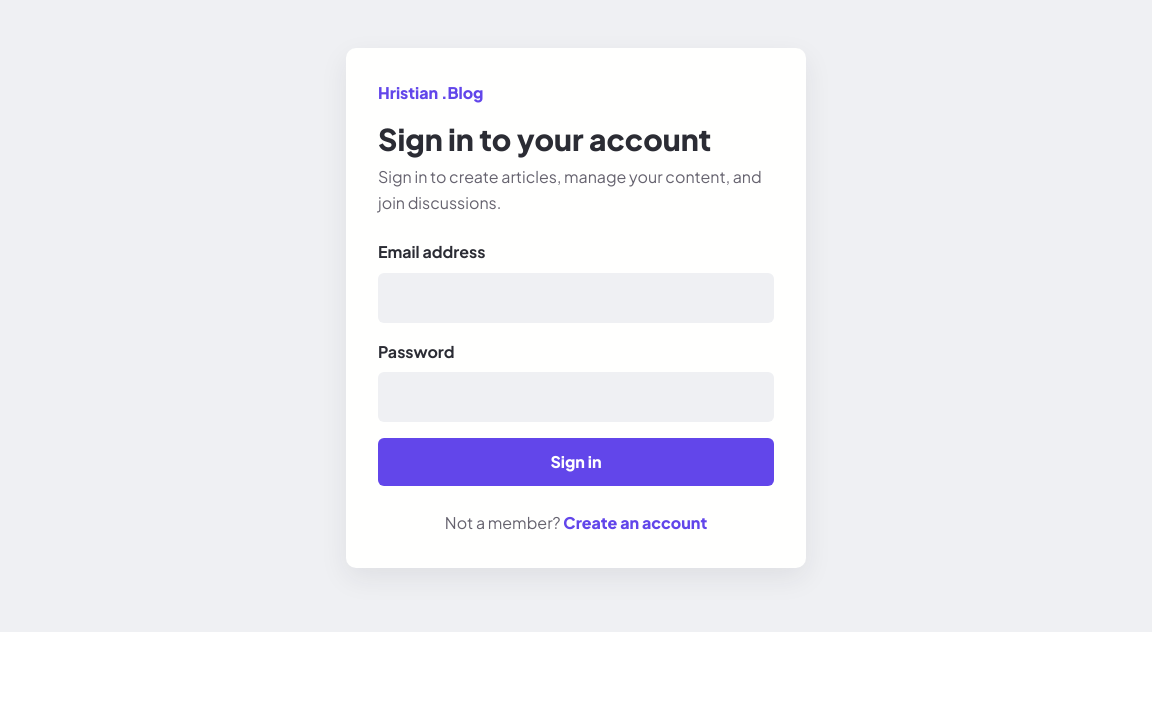
Test: Login page › shows client validation errors
Click the button "Sign in" at (576, 462), box top-left (378, 438), bottom-right (774, 486)
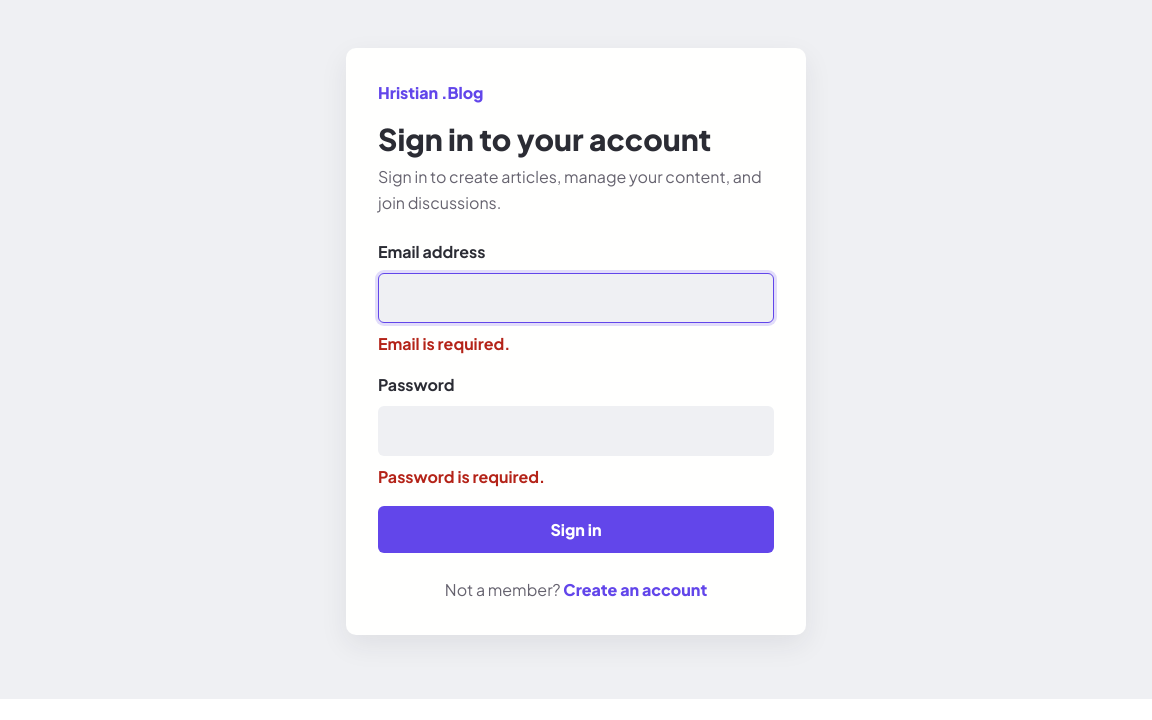
expect the text "Email is required." is shown: met, box top-left (378, 333), bottom-right (510, 354)
expect the text "Password is required." is shown: met, box top-left (378, 466), bottom-right (545, 487)
